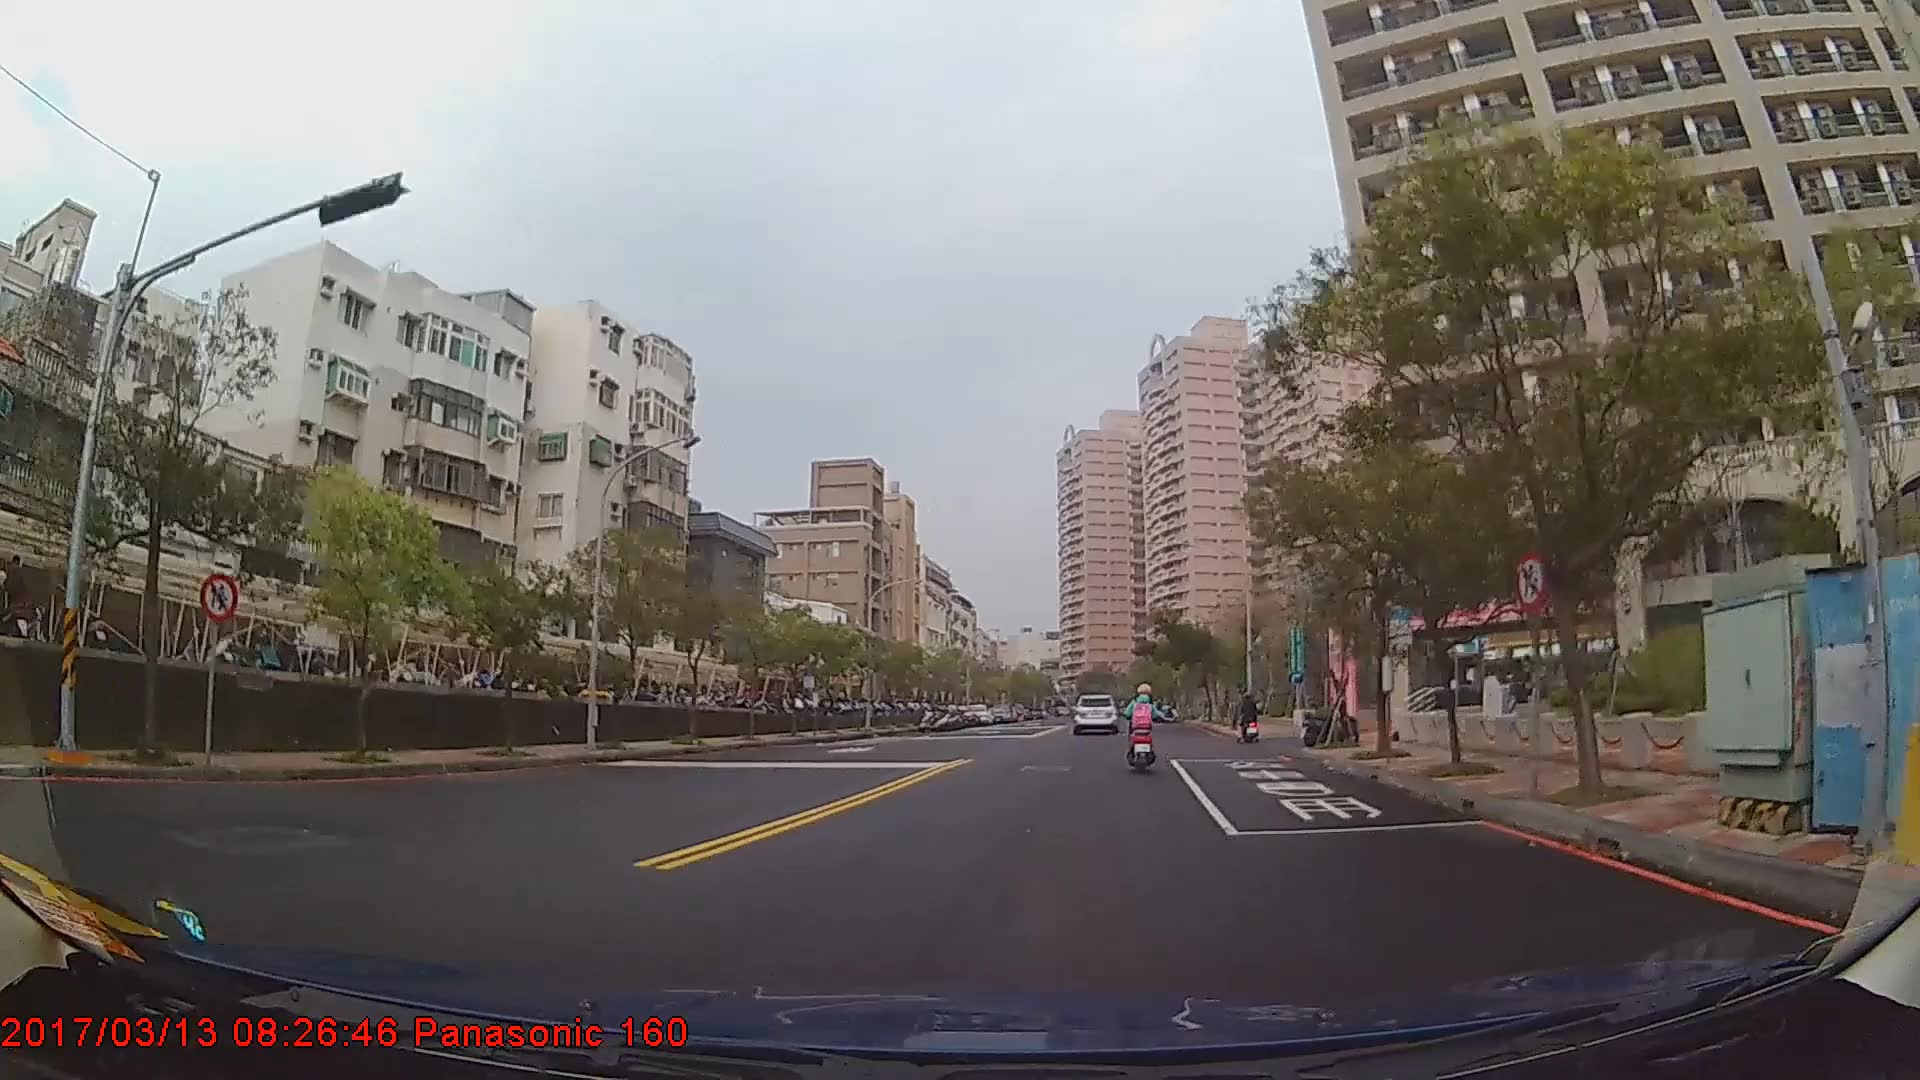rider: (1122, 683, 1169, 769), (1239, 691, 1259, 744)
vehicle: (1070, 694, 1118, 737)
